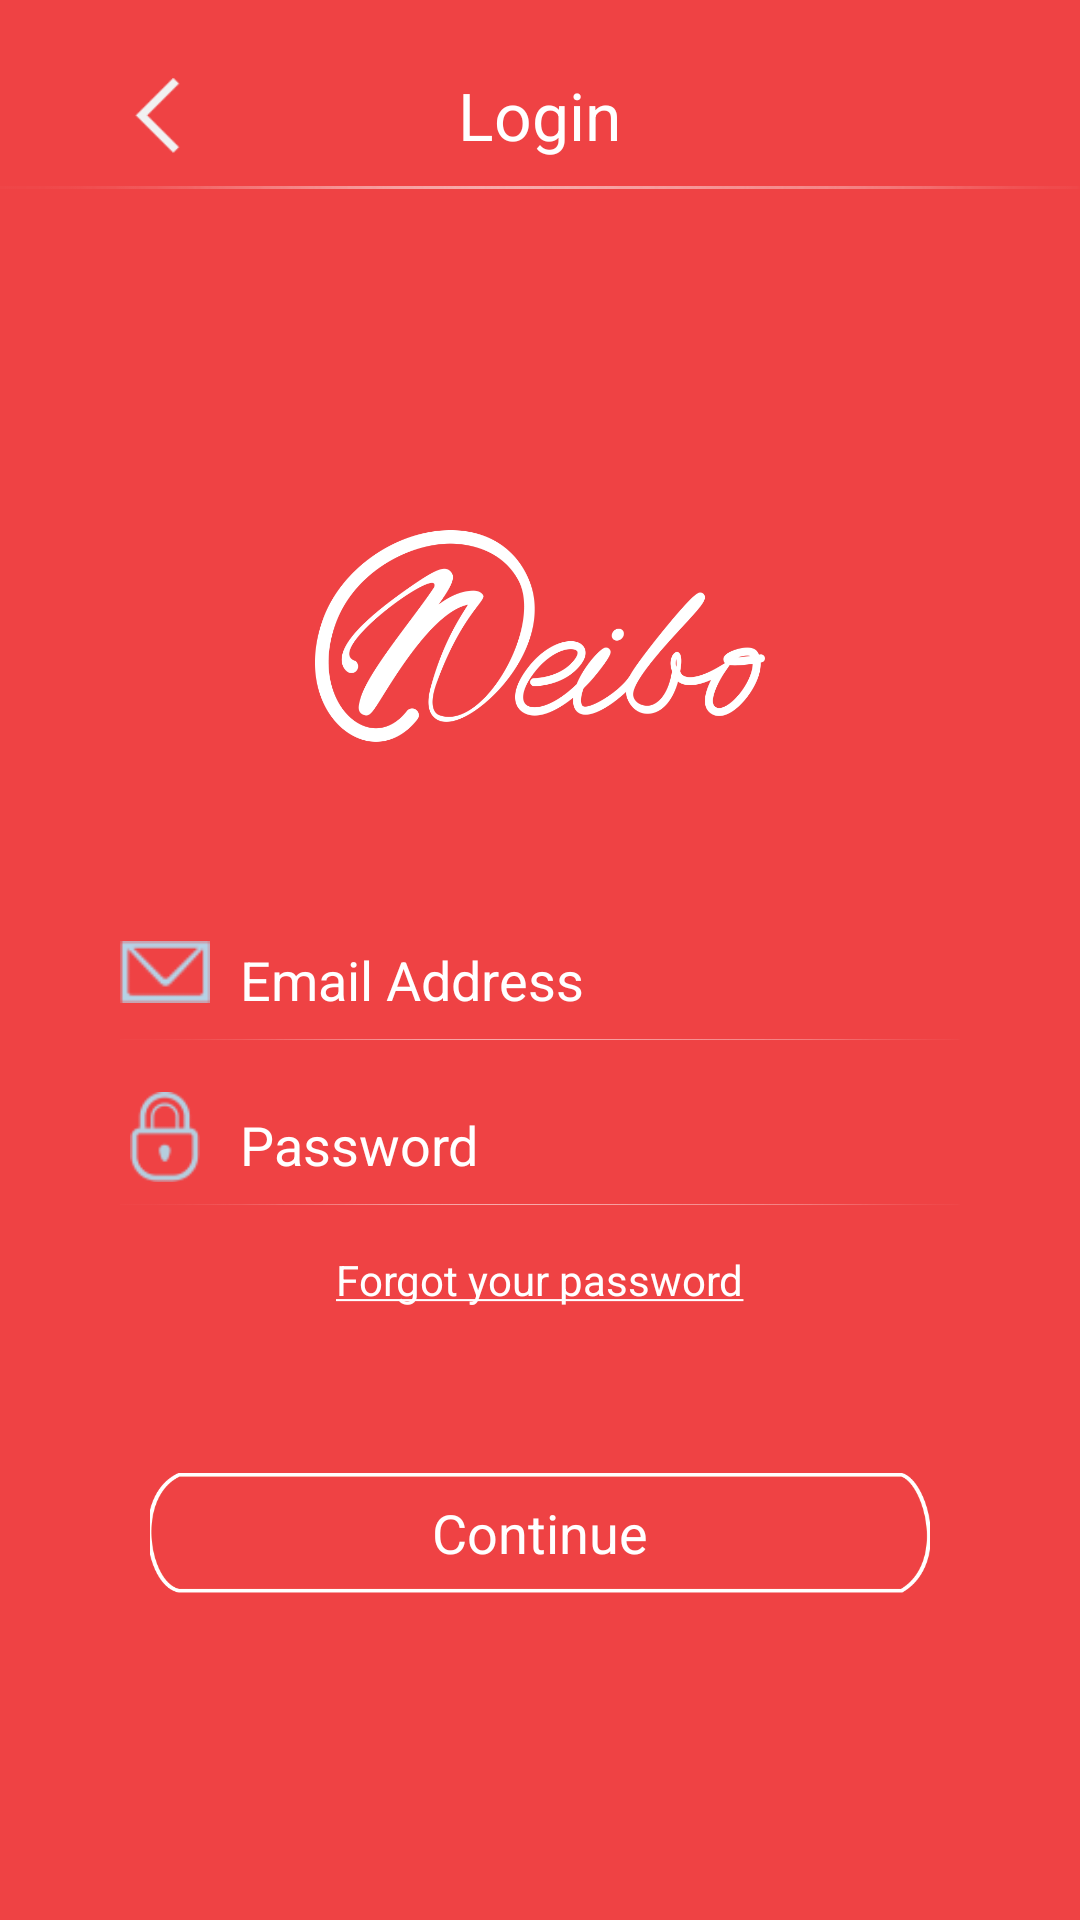

Where to tap for icons on this 1080*1920 app screen, as (x,y):
back: (157,115)
lock: (165,1137)
